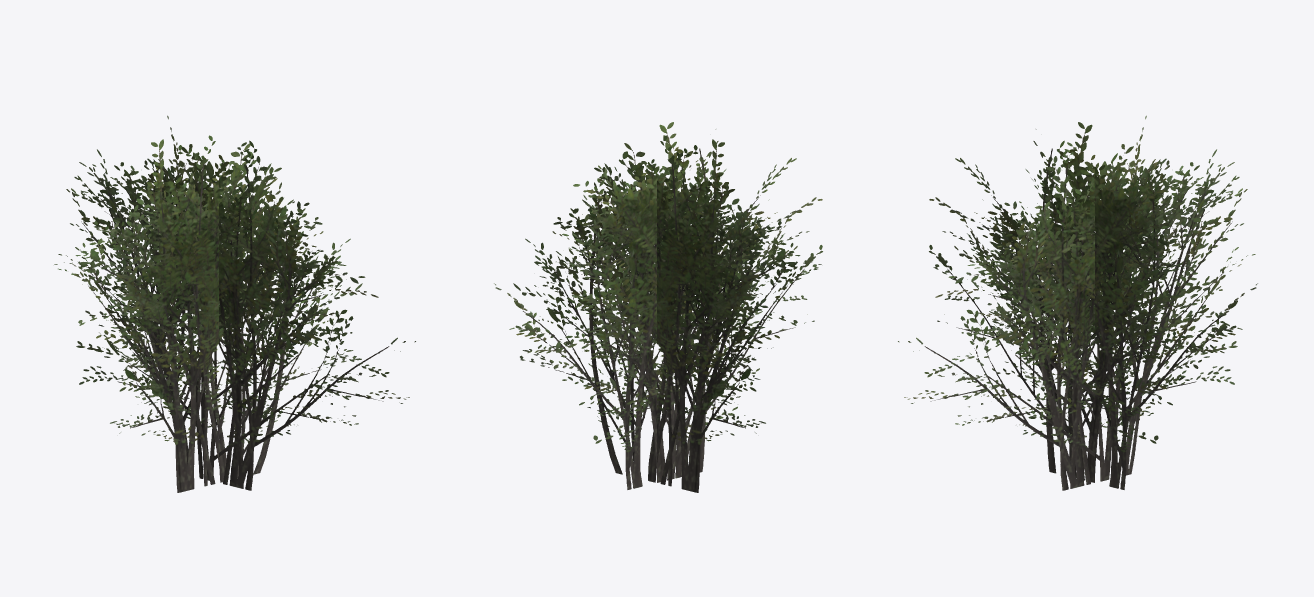
File: trnka_3_daleko.glb
The picture shows the model from 3 angles, left to right: view 1: azimuth 30°, elevation 25°; view 2: azimuth 150°, elevation 25°; view 3: azimuth 270°, elevation 25°; orthographic projection.
Parts seen in each view (by area): view 1: trnka_3_daleko; view 2: trnka_3_daleko; view 3: trnka_3_daleko.
Part boxes in pixels (bbox=[...]): trnka_3_daleko: bbox=[54, 115, 415, 492]; trnka_3_daleko: bbox=[494, 122, 822, 492]; trnka_3_daleko: bbox=[898, 115, 1257, 490].
Size of the model in its own units: 3.36 by 2.9 by 2.91.
3 materials, 3 textured.
